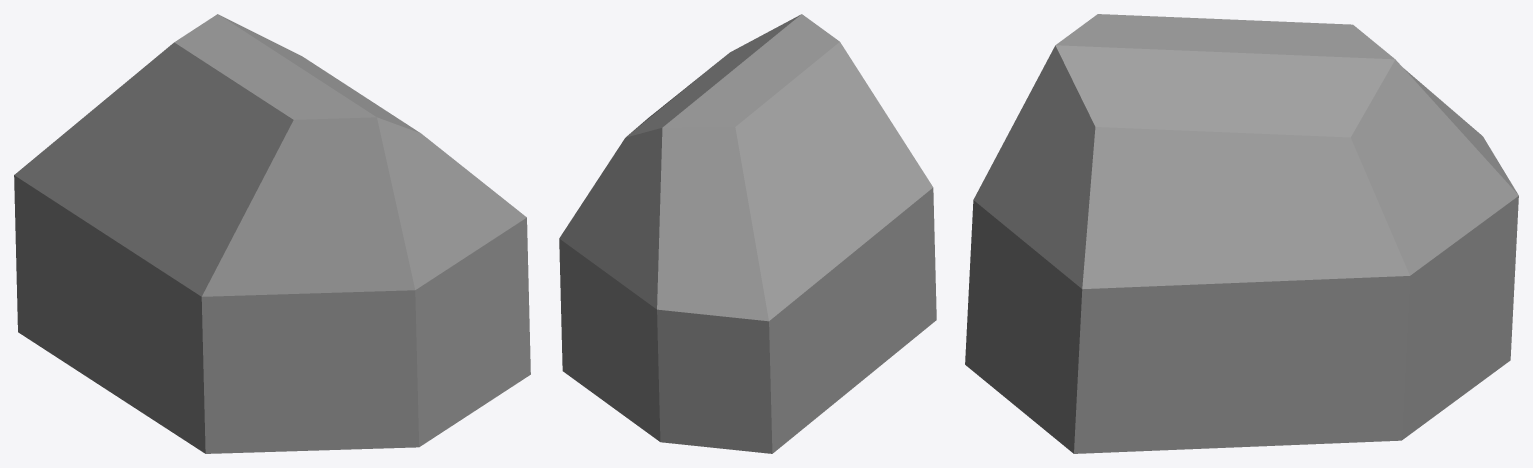
File: rock1.fbx
3 views of the same model, side by side, from view 1: azimuth 30°, elevation 25°; view 2: azimuth 150°, elevation 25°; view 3: azimuth 270°, elevation 25° (orthographic). The views are drawn at different scales.
Parts seen in each view (by area): view 1: rock1; view 2: rock1; view 3: rock1.
Boxes of the visible parts, left/top/right/bottom form: rock1: left=14, top=14, right=530, bottom=453; rock1: left=559, top=14, right=936, bottom=453; rock1: left=965, top=14, right=1518, bottom=453.
Size of the model in its own units: 138 by 130 by 190.
